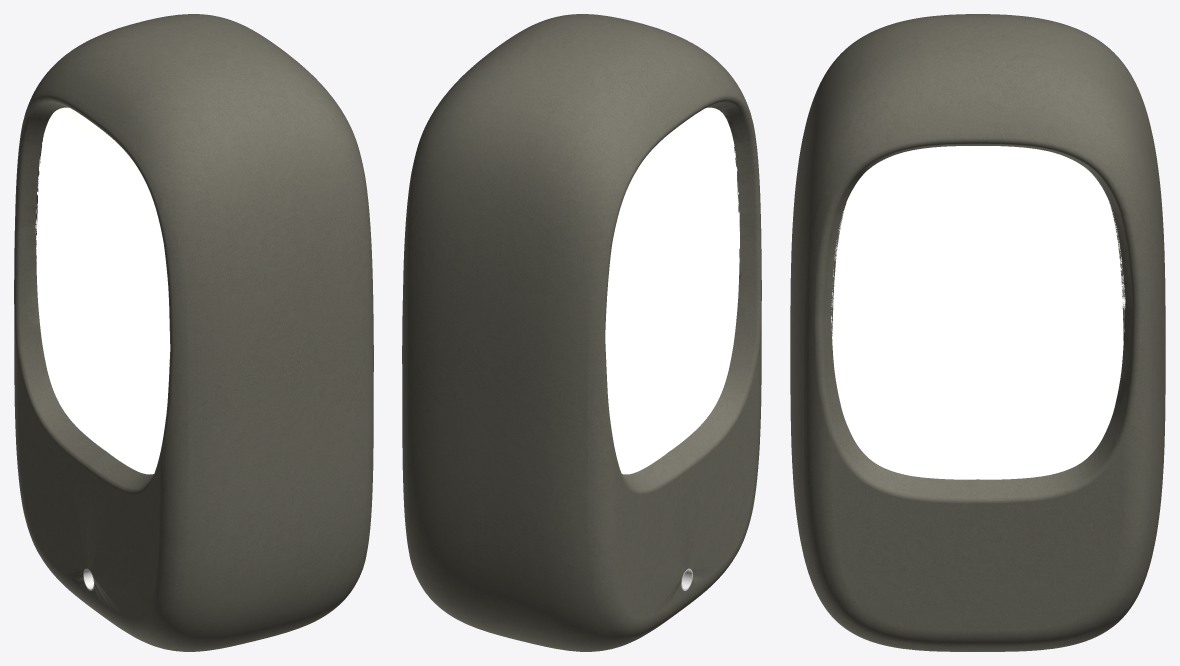
The model's file is qibo.glb.
3 renders of one model, left to right at view 1: azimuth 30°, elevation 25°; view 2: azimuth 150°, elevation 25°; view 3: azimuth 270°, elevation 25°, orthographic. The views are drawn at different scales.
Parts seen in each view (by area): view 1: Holo; view 2: Holo; view 3: Holo.
Boxes of the visible parts, <box> form: Holo: <box>14,14,373,651</box>; Holo: <box>402,14,761,651</box>; Holo: <box>790,14,1165,651</box>.
Size of the model in its own units: 0.08 by 0.2049 by 0.12.
Materials: 6 (1 with a texture image).
